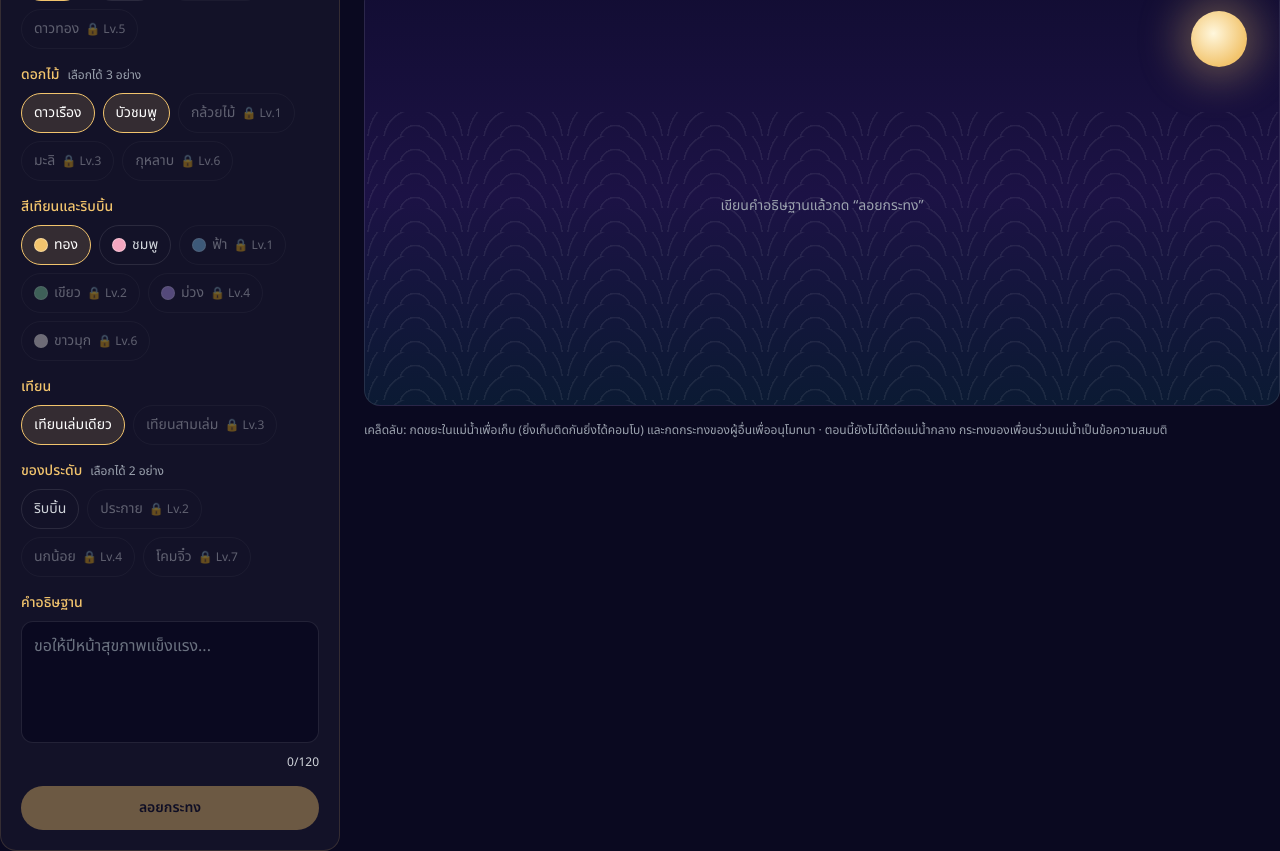
Test: RiverFloat › ลอยกระทงแล้วเห็นกระทงในแม่น้ำ ล้างช่องข้อความ และมีปุ่มบันทึกภาพ
(page scrolled)
In the text box labelled "คำอธิษฐาน": (170, 682) [21,621,319,743], type "ขอให้สบายดี"
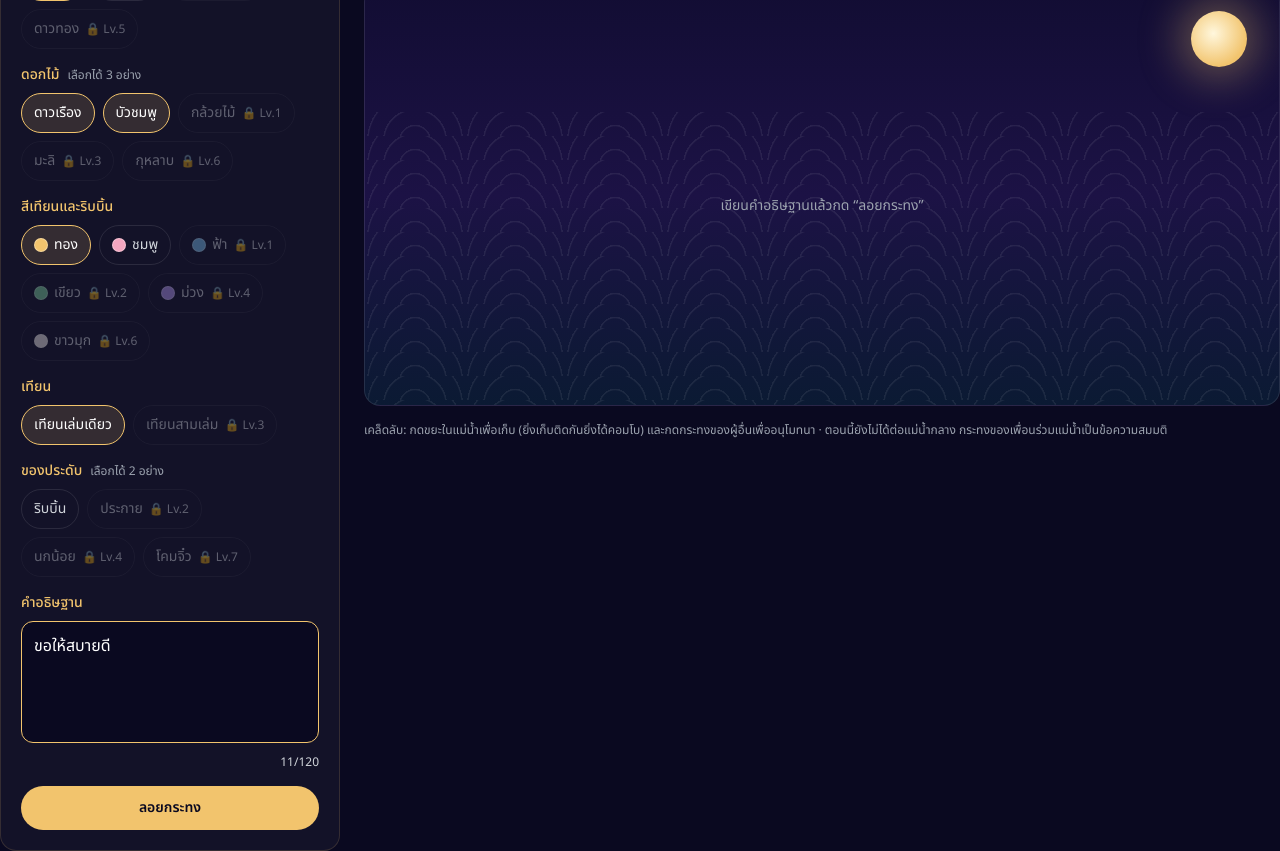
Click the button "ลอยกระทง": (170, 808) [21,786,319,830]
(page scrolled)
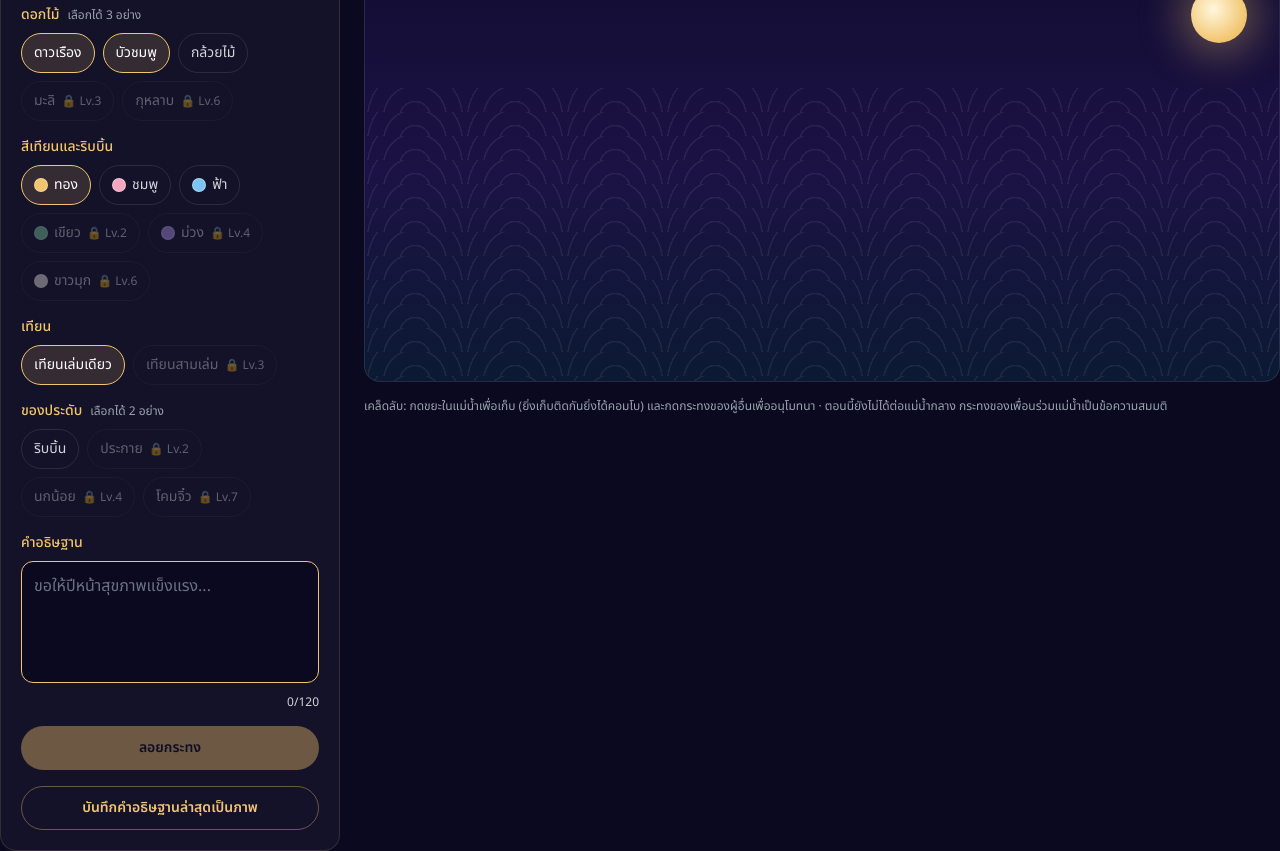
Expected: the text box labelled "คำอธิษฐาน" is empty, [21,561,319,683]
Expected: the button "บันทึกคำอธิษฐานล่าสุดเป็นภาพ" is shown, [21,786,319,830]
